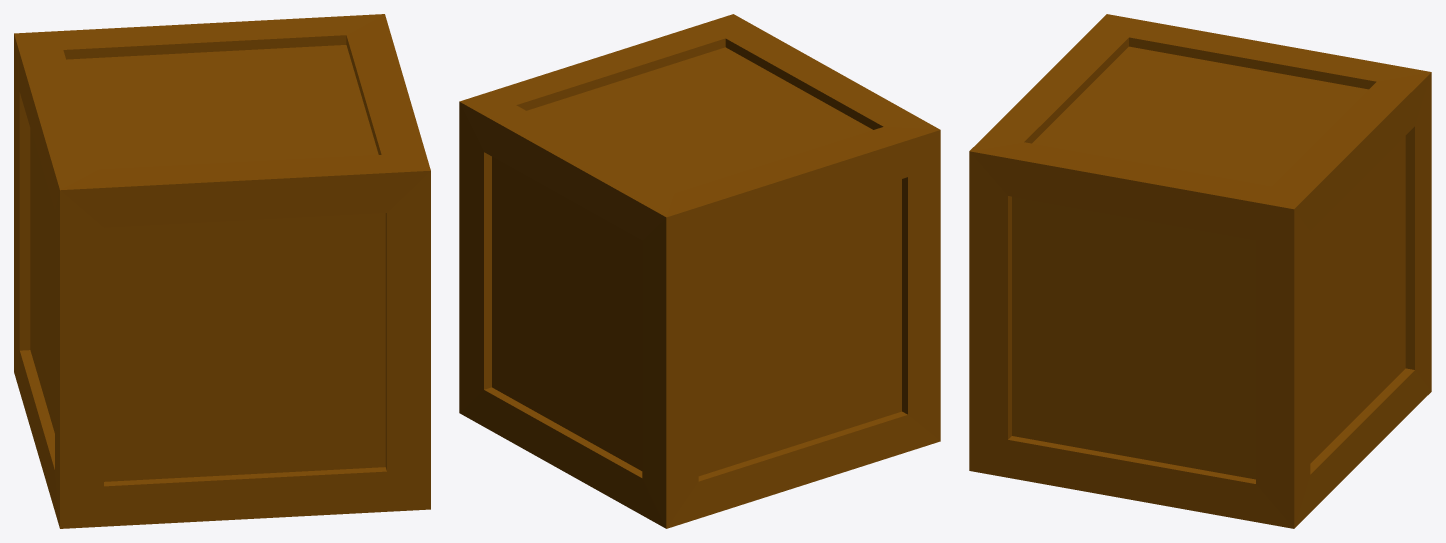
File: crate.fbx
3 renders of one model, left to right at view 1: azimuth 30°, elevation 25°; view 2: azimuth 150°, elevation 25°; view 3: azimuth 270°, elevation 25°, orthographic. The views are drawn at different scales.
Visible parts, largest first — view 1: polySurface1; view 2: polySurface1; view 3: polySurface1.
Part boxes in pixels (x1,y1,x2,y2): polySurface1: [14, 14, 430, 528]; polySurface1: [459, 14, 940, 528]; polySurface1: [969, 14, 1431, 528].
Bounding box in the file's own units: 131 × 100 × 131.
